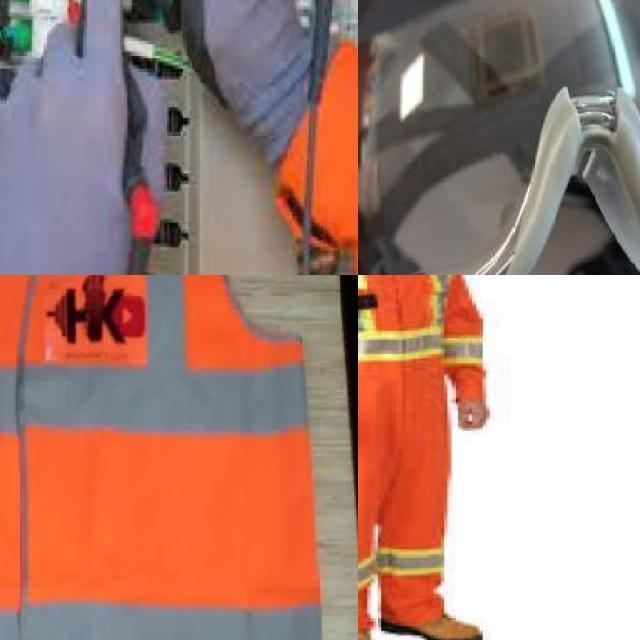apron: (0, 0, 153, 275), (120, 0, 322, 135)
